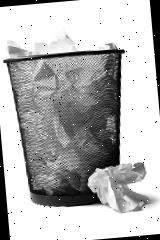paper: (86, 161, 150, 215), (5, 26, 79, 58)
